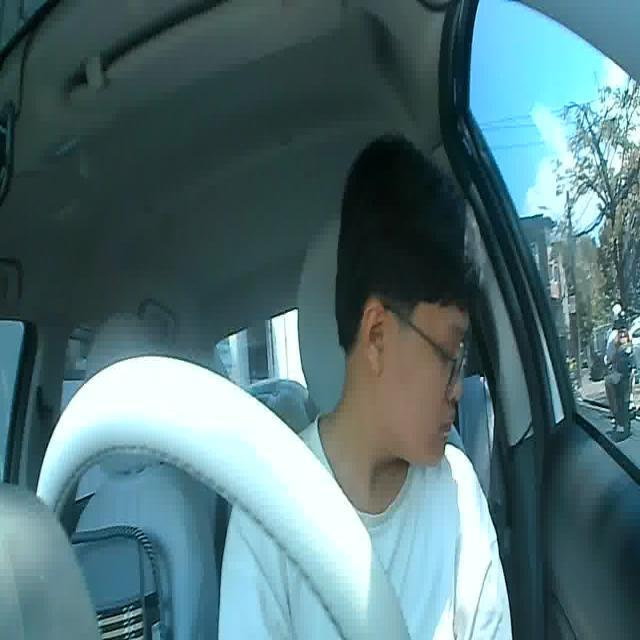Eye-Close: (434, 341, 458, 361)
Inattentive: (334, 131, 481, 468)
Normal: (440, 414, 456, 436)
